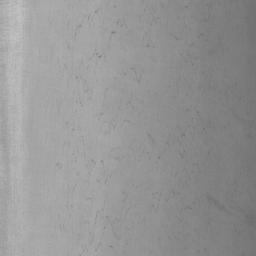Silk spot: (207, 196, 224, 210), (246, 214, 255, 225)
